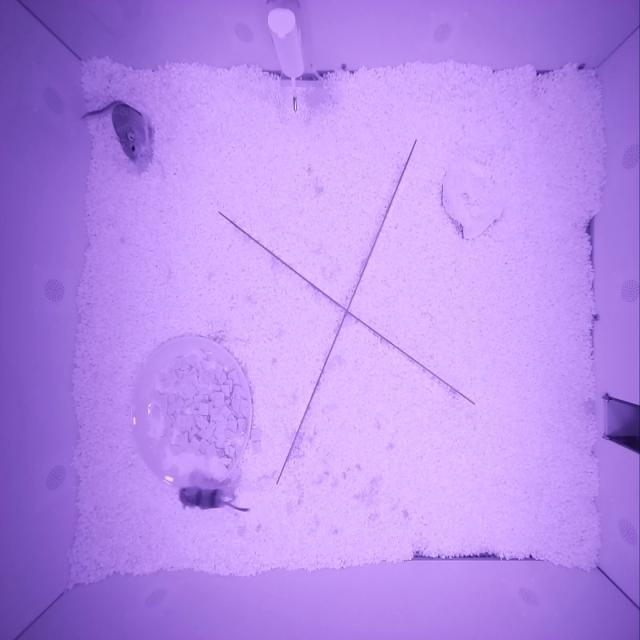adult_back: (111, 104, 149, 160)
pup_h_stripe: (177, 485, 226, 510)
